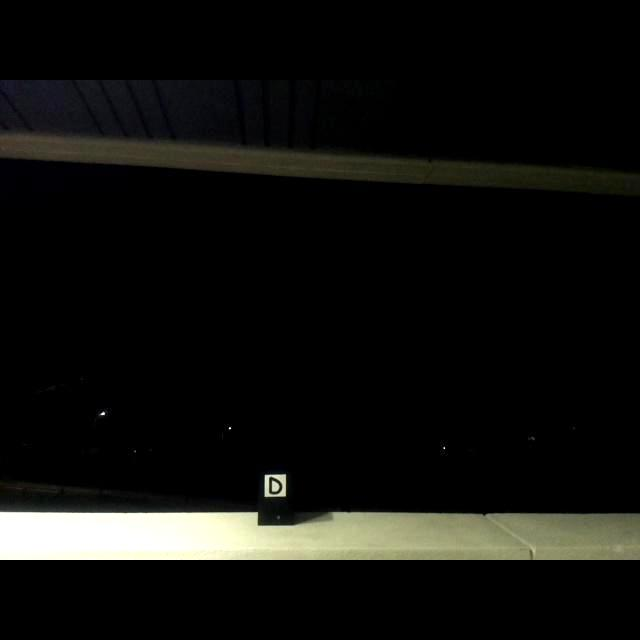D: (268, 476, 284, 495)
